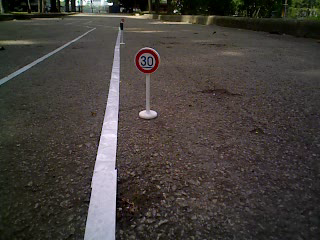limit 30: (133, 46, 161, 74)
